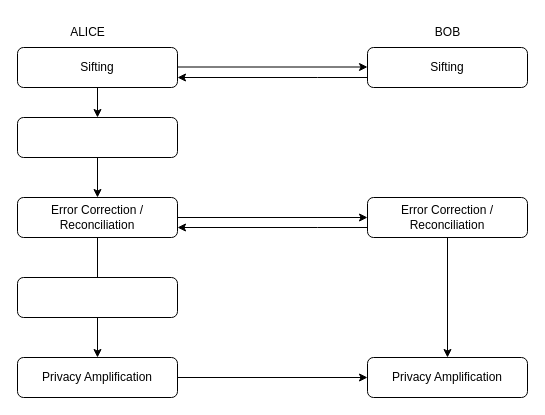
The diagram is 545 pixels wide and 415 high, and some of its shapes have lost their labels. The shapes that lost their labels are listed below. From the top down, each one's centre as x and y in pixels, then its label:
point (97, 137): Parameter Estimation
point (97, 297): SKR Calculation
